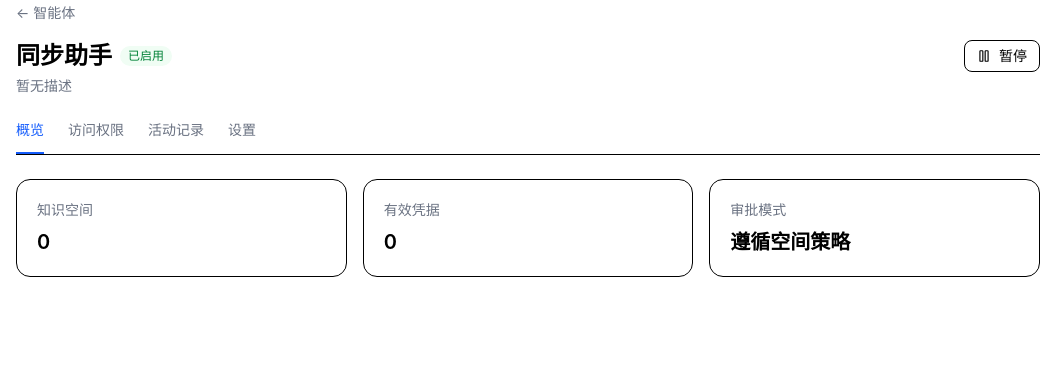
Test: AgentDetail › shows tool, real target and result summary while labeling historical transport honestly
The width and height of the screenshot is (1057, 367).
Click the button "活动记录".
click(176, 137)  # box [148,120,204,154]
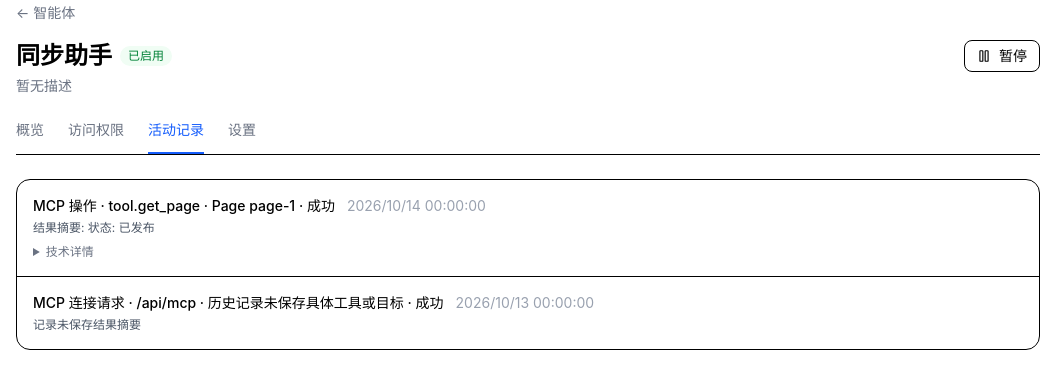
Expected: the text "MCP 操作 · tool.get_page · Page page-1 · 成功" is shown, [33,196,335,216]
Expected: the text "结果摘要: 状态: 已发布" is shown, [33,220,155,235]
Expected: the text "MCP 连接请求 · /api/mcp · 历史记录未保存具体工具或目标 · 成功" is shown, [33,293,444,313]
